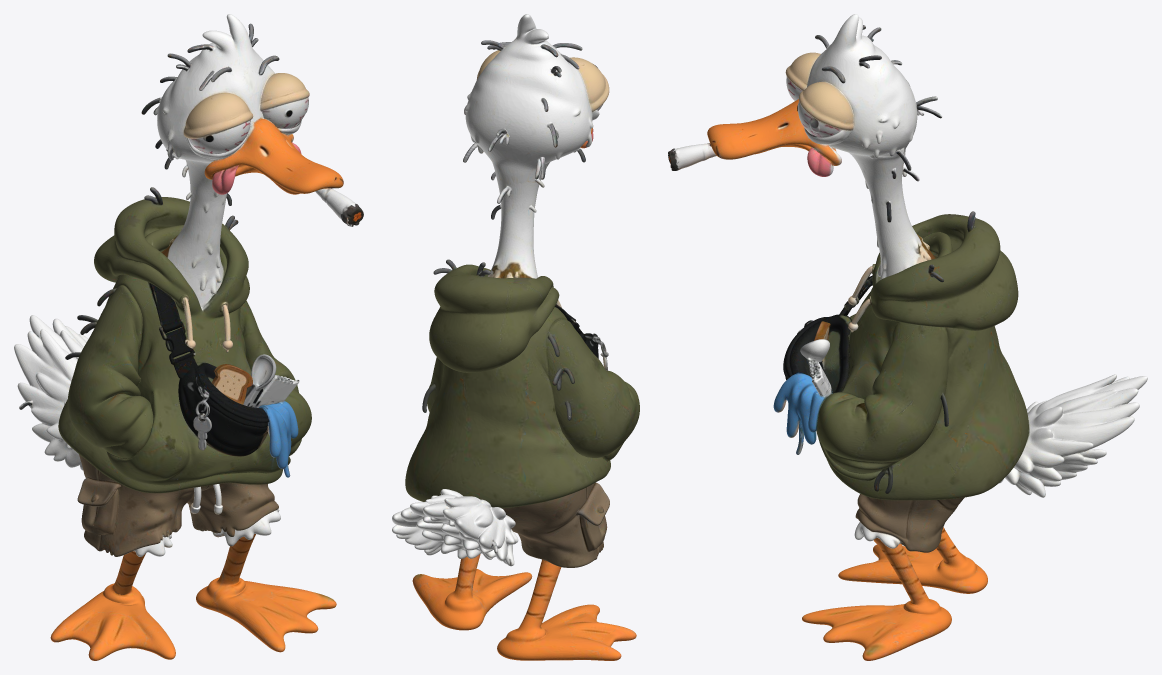
Rendered from miki.glb.
The picture shows the model from 3 angles, left to right: view 1: azimuth 30°, elevation 25°; view 2: azimuth 150°, elevation 25°; view 3: azimuth 270°, elevation 25°; orthographic projection. The views are drawn at different scales.
Size of the model in its own units: 0.8034 by 1.9 by 1.39.
1 material, 1 textured.
